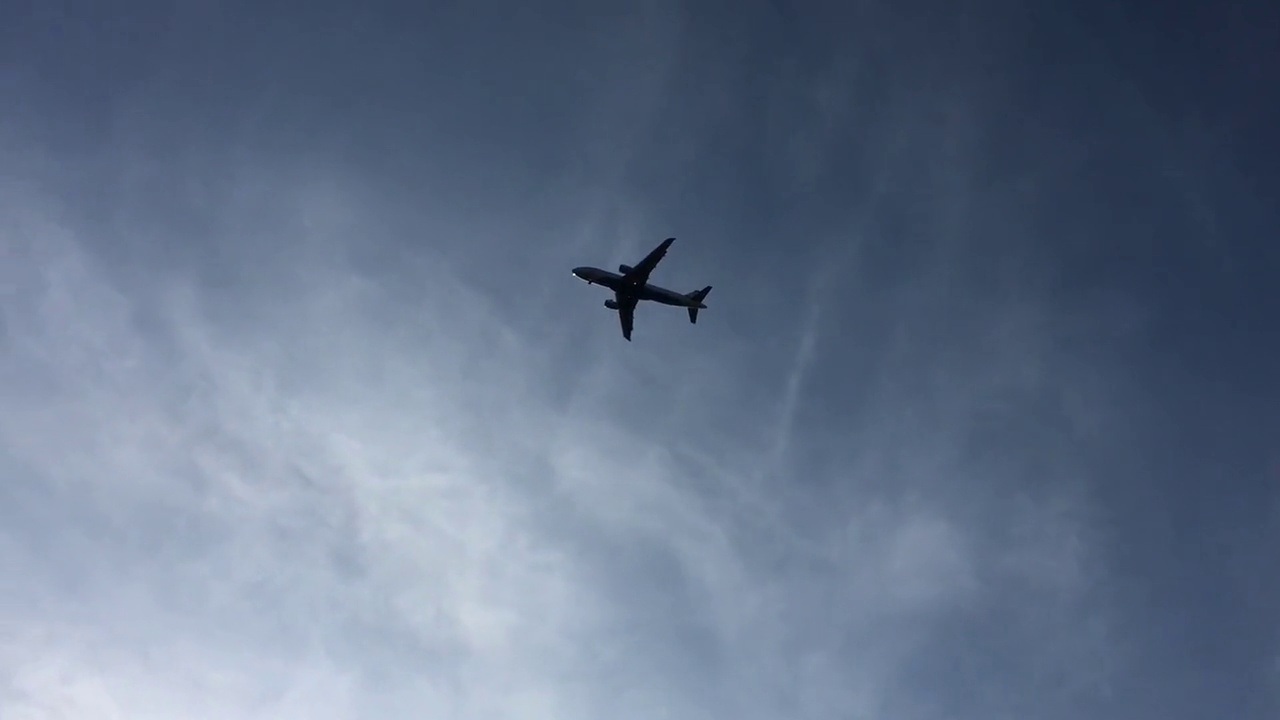plane: (571, 233, 712, 342)
